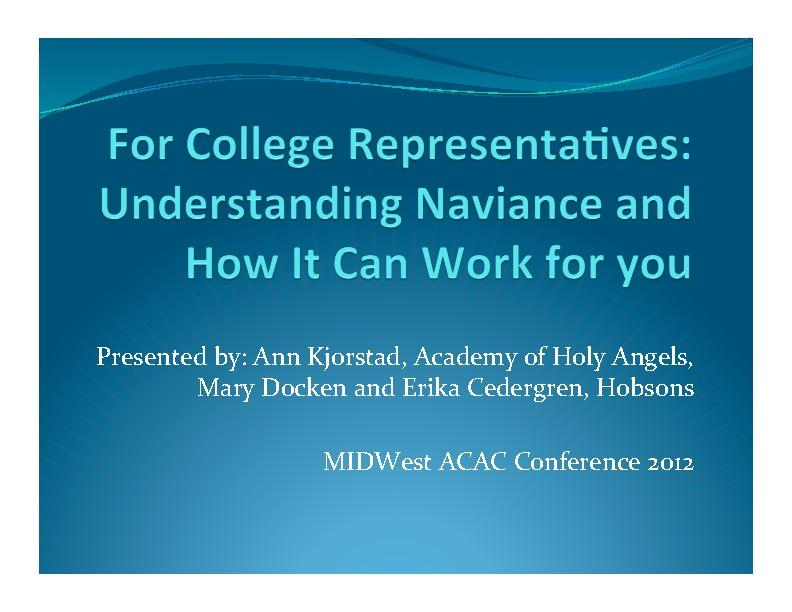subtitle: (91, 331, 726, 535)
title: (91, 108, 702, 306)
